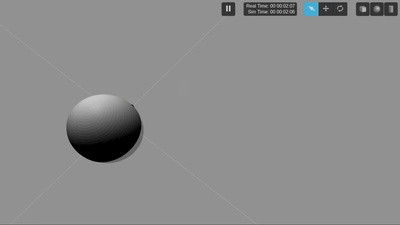mira_robot: (67, 95, 143, 163)
